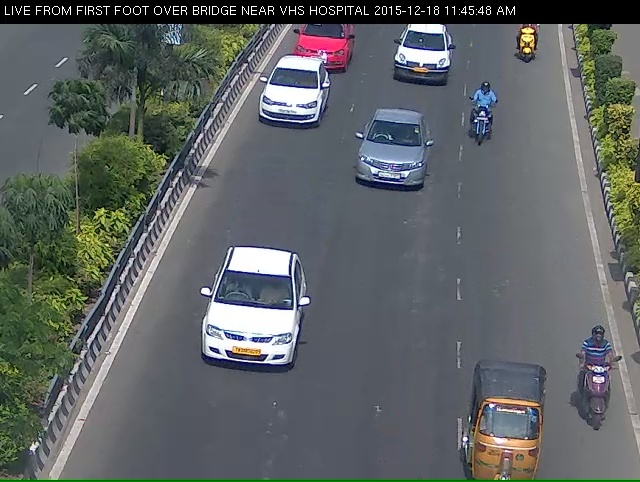Auto: (515, 22, 540, 80)
Car: (184, 276, 307, 411), (351, 113, 435, 212), (253, 65, 325, 143), (284, 21, 356, 87), (391, 25, 459, 94), (286, 24, 356, 82)
Person: (464, 378, 556, 481), (579, 355, 625, 471), (469, 91, 500, 163)
